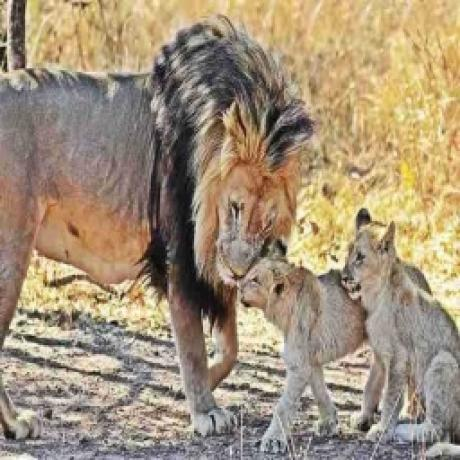Lion: (0, 11, 309, 438), (335, 208, 460, 450), (235, 235, 365, 447)
